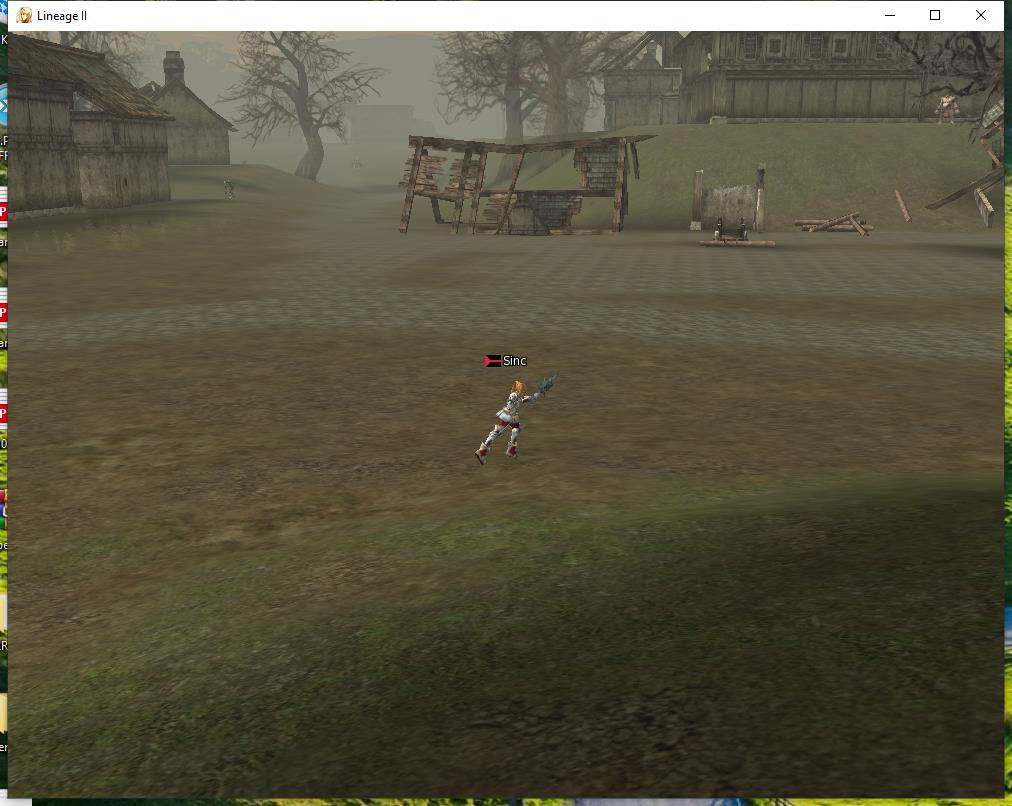monster: (931, 90, 960, 124)
